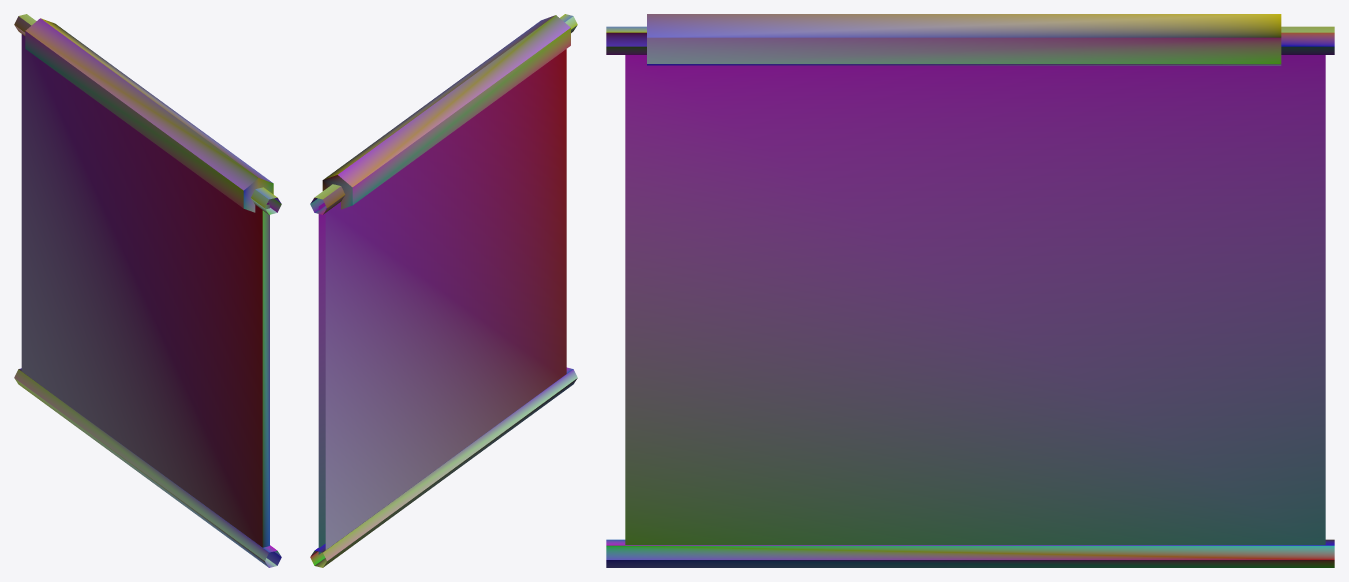
File: SM_busChair2.fbx
3 views of the same model, side by side, from view 1: azimuth 30°, elevation 25°; view 2: azimuth 150°, elevation 25°; view 3: azimuth 270°, elevation 25° (orthographic). The views are drawn at different scales.
Parts seen in each view (by area): view 1: polySurface603; view 2: polySurface603; view 3: polySurface603.
Part boxes in pixels (x1,y1,x2,y2): polySurface603: (14, 14, 281, 567); polySurface603: (310, 14, 577, 567); polySurface603: (606, 14, 1334, 567).
Size of the model in its own units: 4.44 by 53.88 by 64.63.
